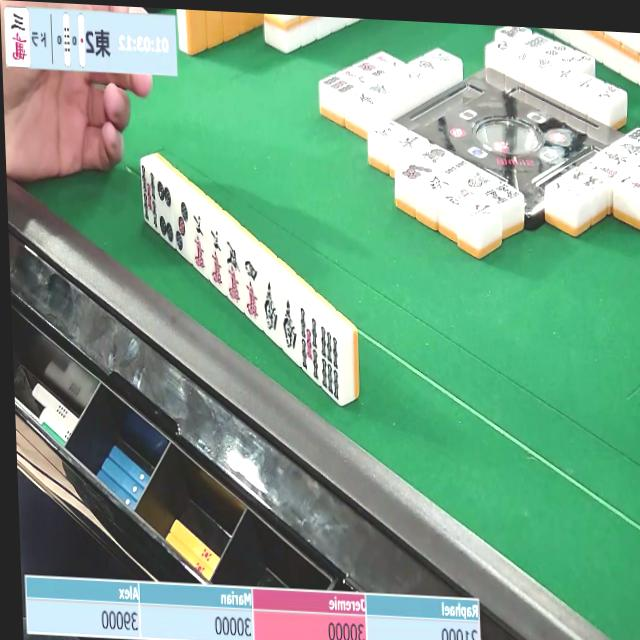m3: (4, 10, 29, 67)
m4: (240, 257, 261, 324)
m5: (222, 239, 240, 306)
m7: (189, 211, 207, 275), (208, 227, 225, 291)
s5: (296, 308, 320, 382), (142, 163, 158, 231)
s6: (318, 327, 343, 407)
south: (279, 294, 299, 358), (261, 278, 281, 340)
t3: (174, 197, 191, 257)
t4: (156, 178, 173, 248)
